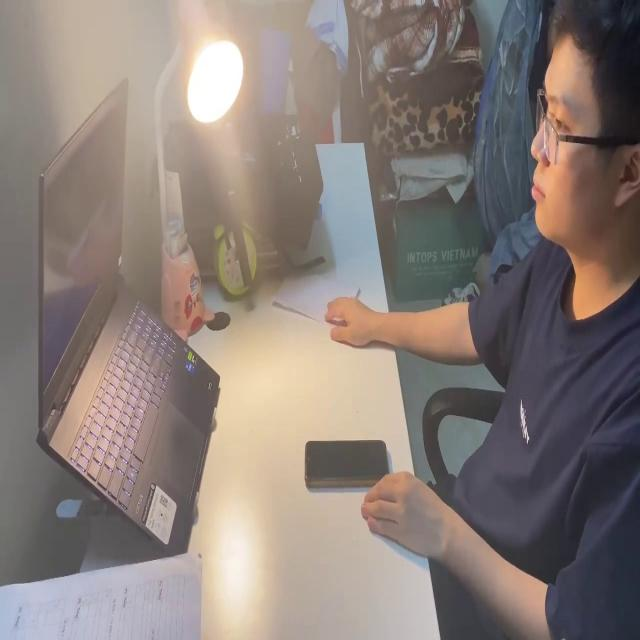book: (0, 553, 202, 640), (272, 267, 364, 330)
laptop: (34, 72, 224, 558)
phone: (304, 436, 388, 489)
student: (325, 0, 640, 640)
